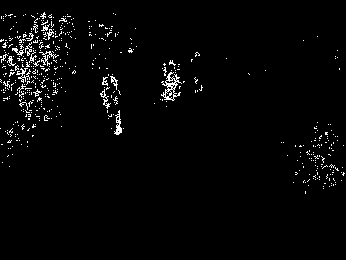person: (98, 75, 124, 139)
